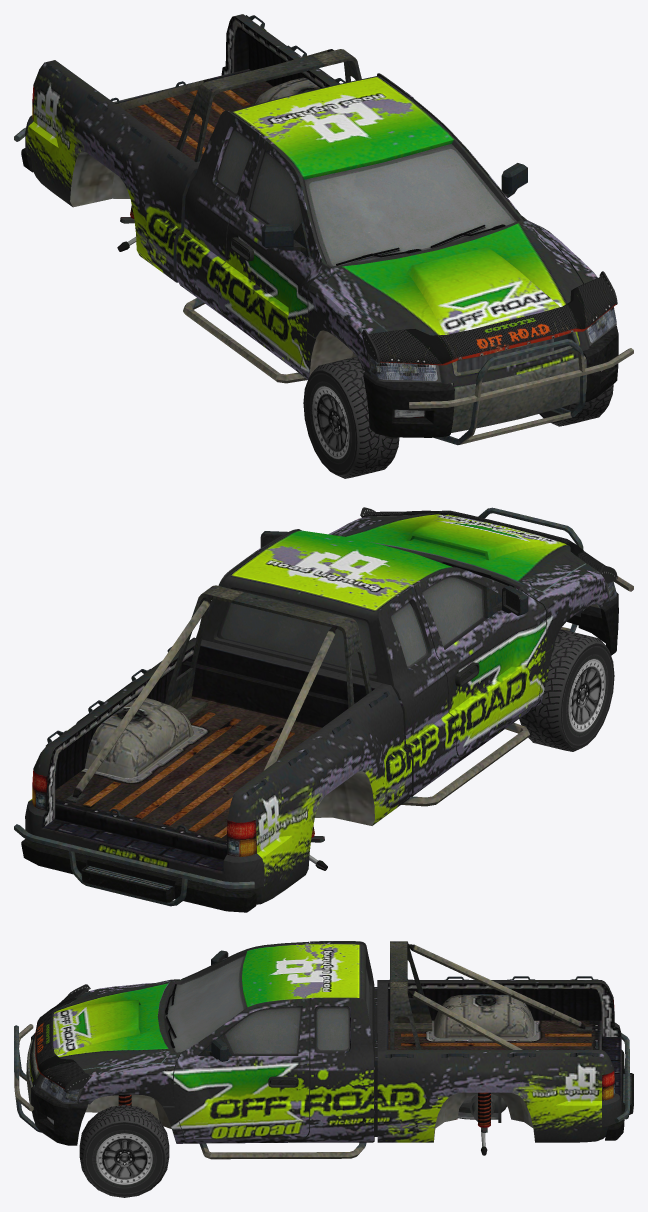
File: Offroad_Jeep-4.FBX
3 renders of one model, top to bottom at view 1: azimuth 30°, elevation 25°; view 2: azimuth 150°, elevation 25°; view 3: azimuth 270°, elevation 25°, orthographic. The views are drawn at different scales.
Parts seen in each view (by area): view 1: Offroad_Jeep-4, Offroad_Jeep-4_Whhel-1, Offroad_Jeep-4_Whhel-2; view 2: Offroad_Jeep-4, Offroad_Jeep-4_Whhel-1; view 3: Offroad_Jeep-4, Offroad_Jeep-4_Whhel-2.
Boxes of the visible parts, bbox=[...] form: Offroad_Jeep-4: bbox=[14, 14, 633, 445]; Offroad_Jeep-4_Whhel-1: bbox=[303, 356, 399, 478]; Offroad_Jeep-4_Whhel-2: bbox=[539, 384, 613, 426]; Offroad_Jeep-4: bbox=[14, 507, 633, 912]; Offroad_Jeep-4_Whhel-1: bbox=[519, 629, 614, 751]; Offroad_Jeep-4: bbox=[14, 941, 633, 1159]; Offroad_Jeep-4_Whhel-2: bbox=[79, 1105, 169, 1197].
Size of the model in its own units: 10.91 by 9.62 by 29.14.
1 material, 1 textured.
